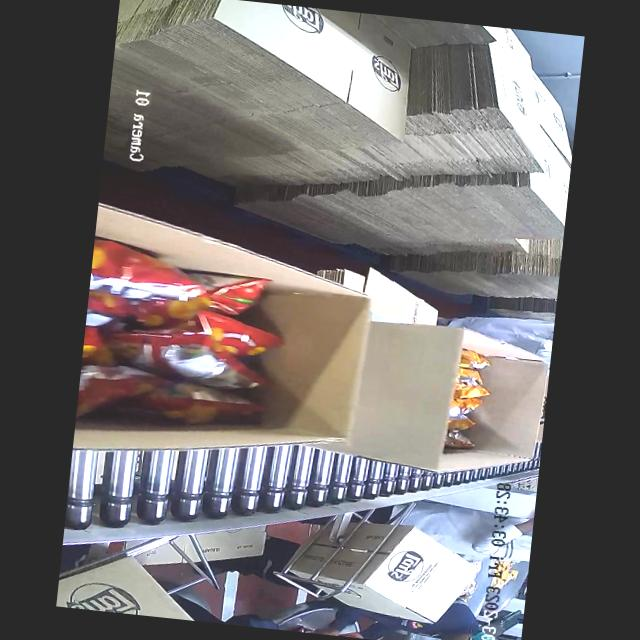cheese: (446, 338, 490, 462)
masala: (76, 245, 298, 430)
